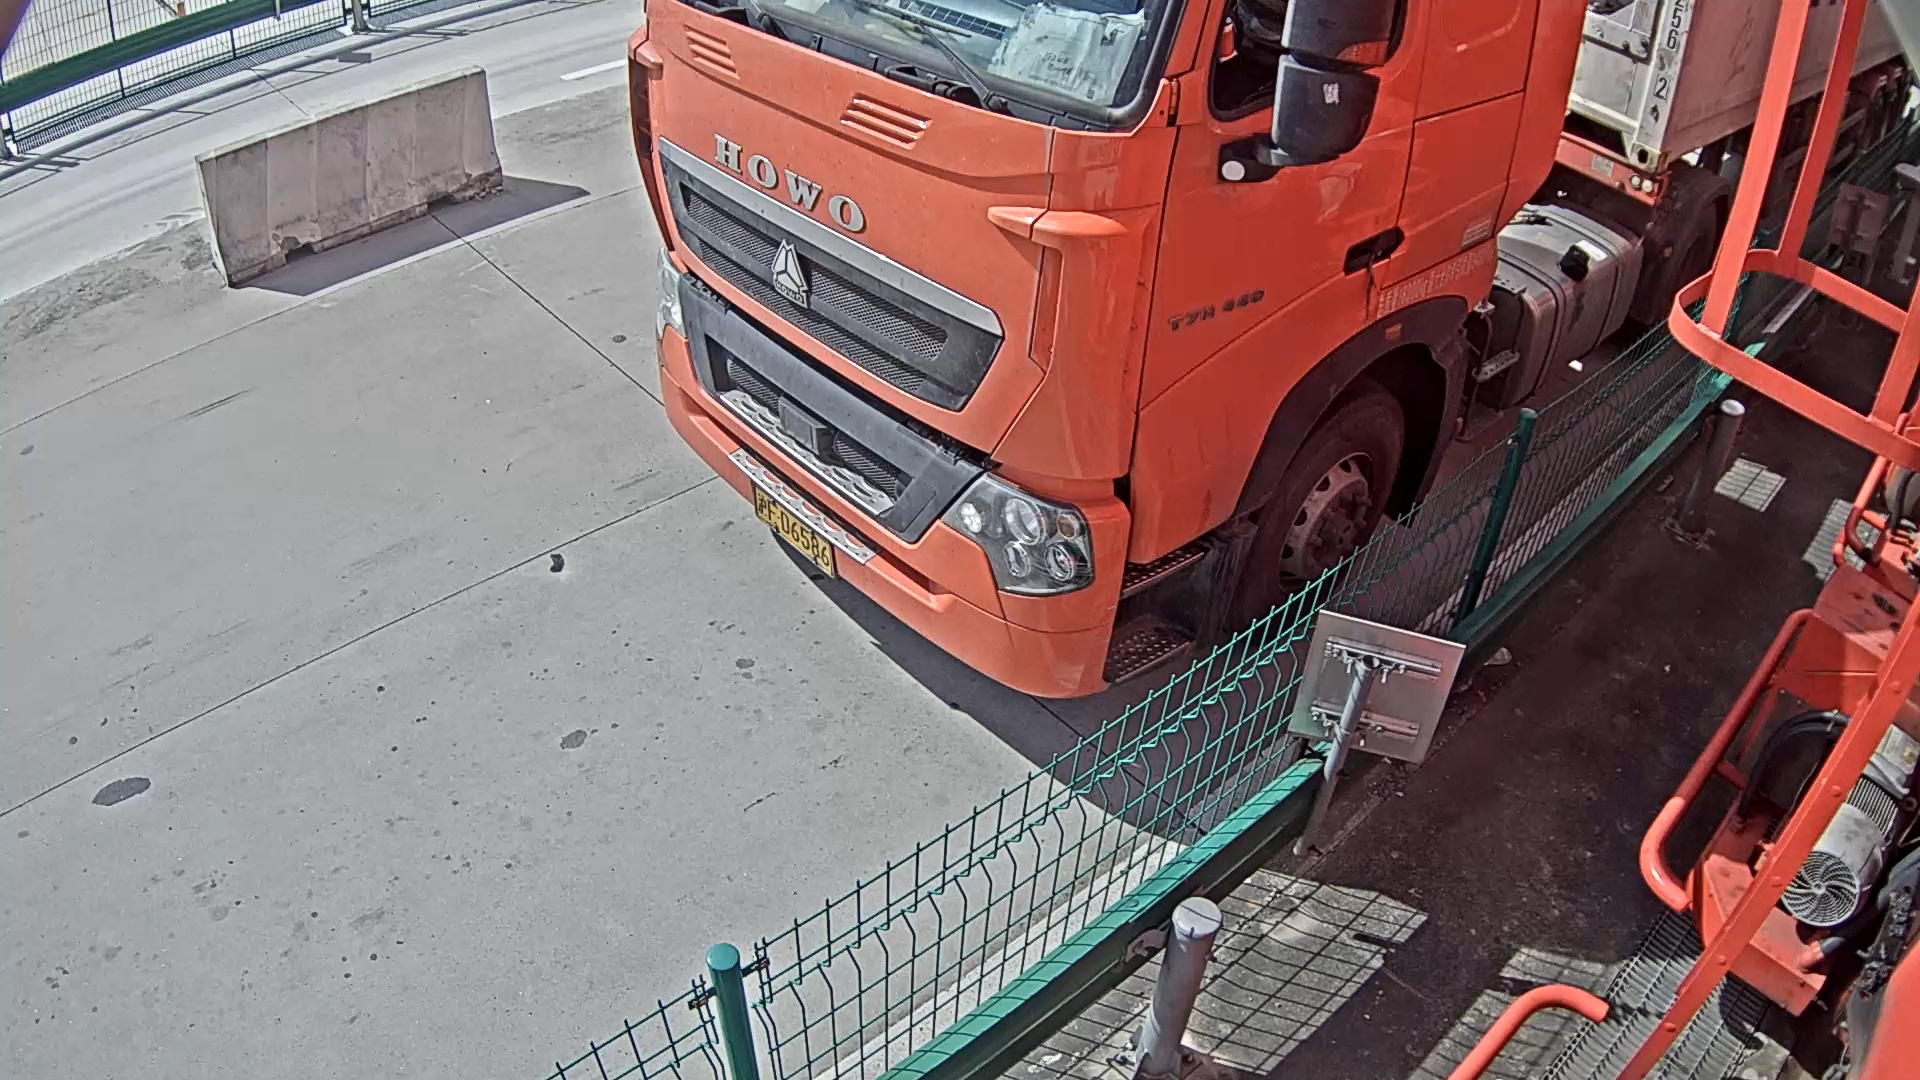head: (634, 1, 1591, 702)
plate: (751, 484, 836, 571)
